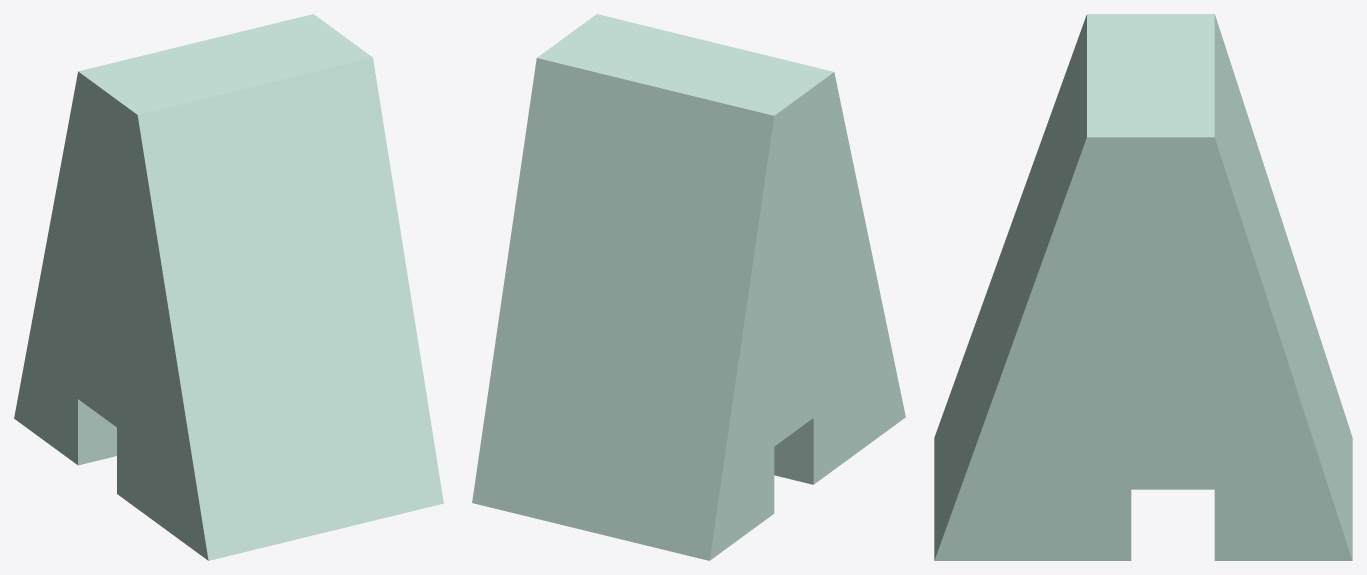
3 renders of one model, left to right at view 1: azimuth 30°, elevation 25°; view 2: azimuth 150°, elevation 25°; view 3: azimuth 270°, elevation 25°, orthographic. The views are drawn at different scales.
Visible parts, largest first — view 1: Renderer Node; view 2: Renderer Node; view 3: Renderer Node.
Boxes of the visible parts, <box> form: Renderer Node: <box>14,14,443,560</box>; Renderer Node: <box>472,14,905,560</box>; Renderer Node: <box>934,14,1352,560</box>.
Size of the model in its own units: 0.4688 by 0.75 by 0.6711.
